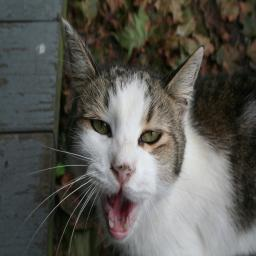catnose: (110, 158, 136, 186)
